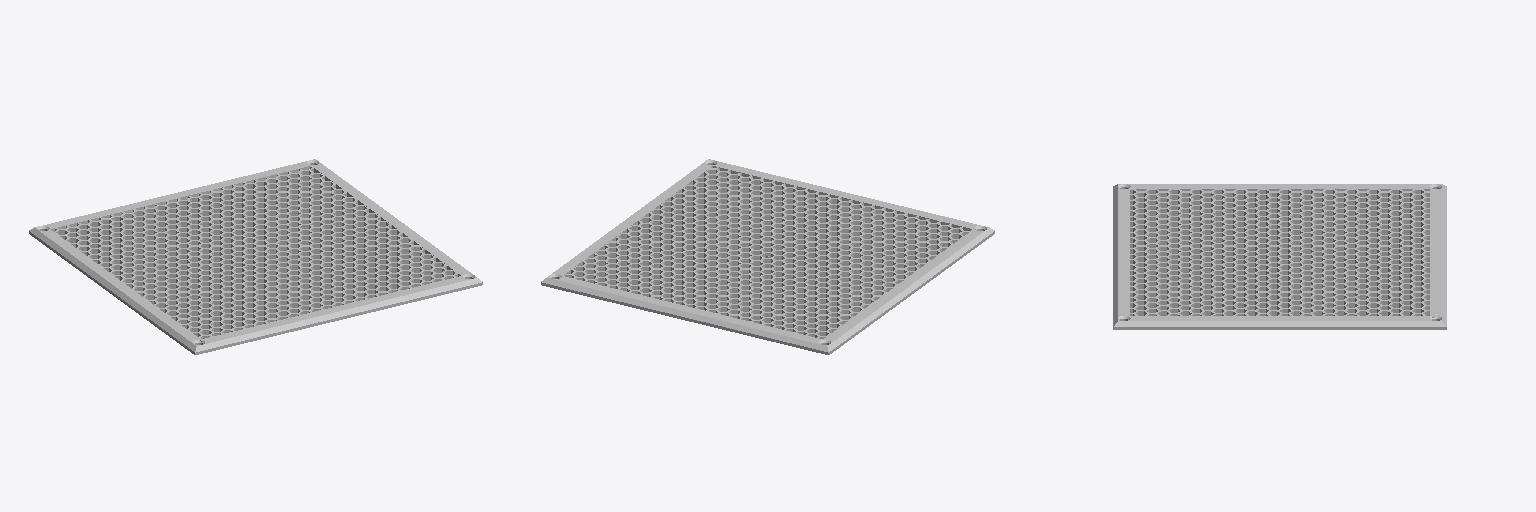
3 views of the same model, side by side, from view 1: azimuth 30°, elevation 25°; view 2: azimuth 150°, elevation 25°; view 3: azimuth 270°, elevation 25° (orthographic).
Visible parts, largest first — view 1: hexgridbadkamer; view 2: hexgridbadkamer; view 3: hexgridbadkamer.
Boxes of the visible parts, x1=… form: hexgridbadkamer: x1=29, y1=159, x2=482, y2=354; hexgridbadkamer: x1=541, y1=159, x2=994, y2=354; hexgridbadkamer: x1=1113, y1=184, x2=1446, y2=329.
Size of the model in its own units: 155 by 3.5 by 155.